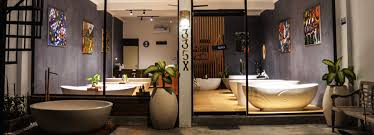bathub: (29, 97, 113, 128), (243, 83, 325, 114), (59, 80, 138, 102), (195, 76, 223, 90)
